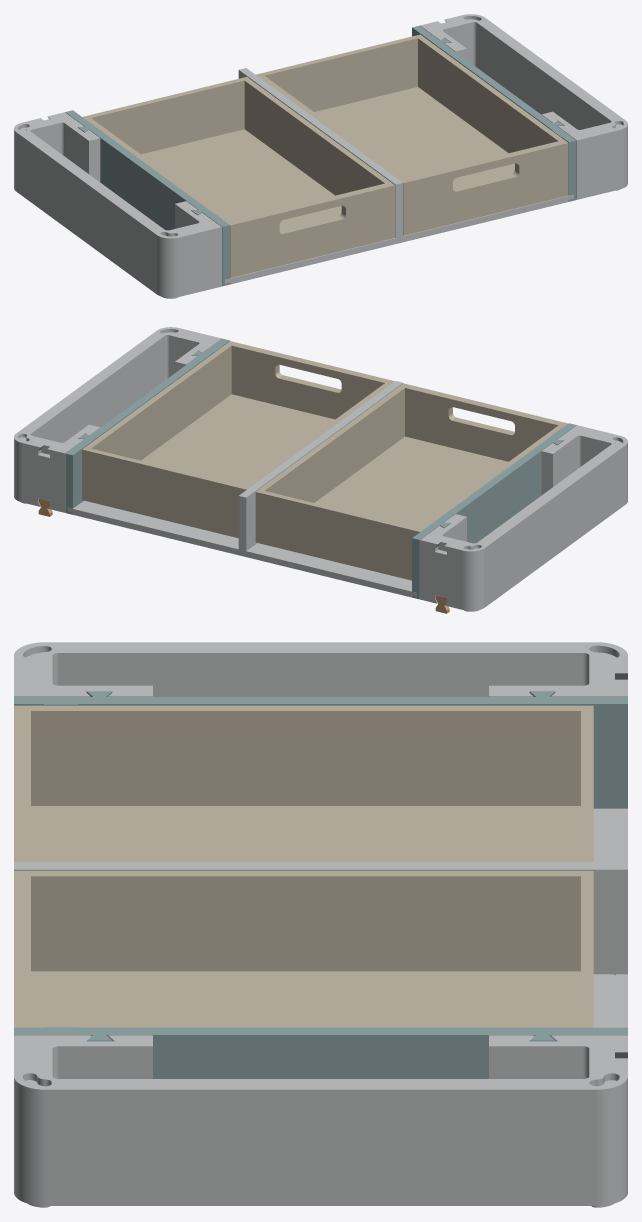
Rendered from layer-assembly.glb.
3 views of the same model, one above another, from view 1: azimuth 30°, elevation 25°; view 2: azimuth 150°, elevation 25°; view 3: azimuth 270°, elevation 25° (orthographic). The views are drawn at different scales.
Visible parts, largest first — view 1: D03, D02, D04, D05, D12, D13, D01, D06, D07; view 2: D03, D02, D04, D05, D12, D09, D08, D13, D01; view 3: D02, D03, D05, D04, D13, D12, D01, D08, D09.
Boxes of the visible parts, left/top/right/bottom form: D03: left=256, top=34, right=568, bottom=235; D02: left=82, top=77, right=395, bottom=277; D04: left=14, top=112, right=221, bottom=298; D05: left=420, top=14, right=627, bottom=199; D12: left=65, top=110, right=229, bottom=286; D13: left=412, top=25, right=576, bottom=201; D01: left=238, top=68, right=403, bottom=237; D06: left=225, top=237, right=399, bottom=284; D07: left=399, top=194, right=573, bottom=242; D03: left=82, top=341, right=394, bottom=538; D02: left=255, top=383, right=568, bottom=580; D04: left=420, top=425, right=627, bottom=611; D05: left=14, top=327, right=221, bottom=512; D12: left=412, top=423, right=576, bottom=599; D09: left=68, top=500, right=242, bottom=555; D08: left=242, top=543, right=416, bottom=597; D13: left=65, top=338, right=229, bottom=514; D01: left=238, top=381, right=403, bottom=550; D02: left=14, top=705, right=593, bottom=862; D03: left=14, top=871, right=593, bottom=1027; D05: left=14, top=1035, right=627, bottom=1207; D04: left=14, top=642, right=627, bottom=696; D13: left=14, top=1027, right=627, bottom=1078; D12: left=14, top=691, right=627, bottom=808; D01: left=14, top=862, right=627, bottom=974; D08: left=593, top=808, right=627, bottom=975; D09: left=593, top=974, right=627, bottom=1027.
Size of the model in its own units: 0.495 by 0.068 by 0.287.
